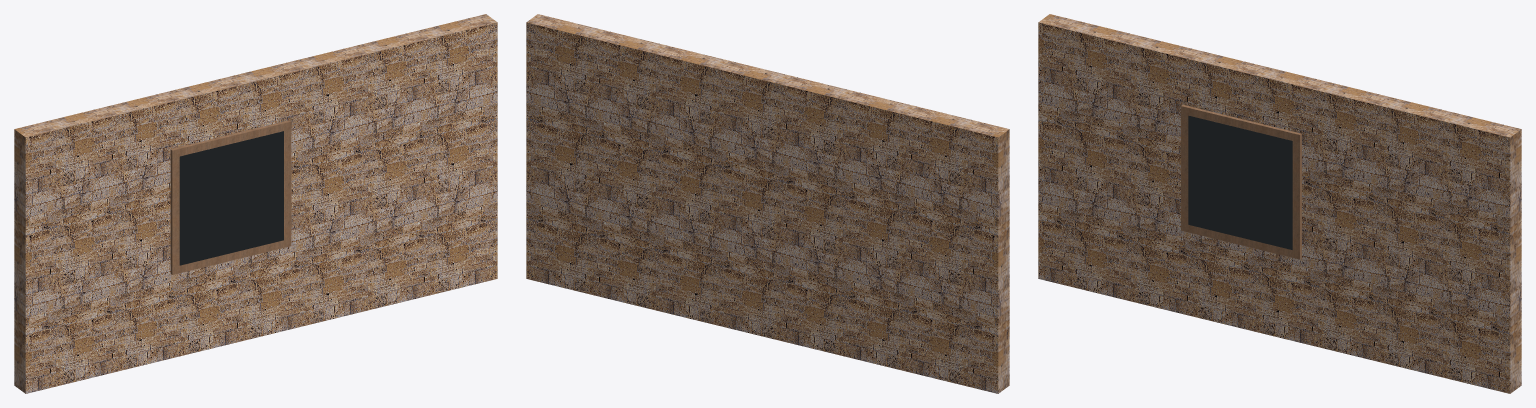
The model's file is wall.glb.
3 views of the same model, side by side, from view 1: azimuth 30°, elevation 25°; view 2: azimuth 150°, elevation 25°; view 3: azimuth 330°, elevation 25° (orthographic).
Visible parts, largest first — view 1: wall_dust, CONTENT, FRAME_T, FRAME_L, FRAME_B, FRAME_R; view 2: wall_dust; view 3: wall_dust, CONTENT, FRAME_T, FRAME_R, FRAME_B, FRAME_L.
Part boxes in pixels (x1,y1,x2,y2): wall_dust: (14,14,497,393); CONTENT: (179,131,283,265); FRAME_T: (170,120,291,157); FRAME_L: (170,156,179,267); FRAME_B: (170,238,291,274); FRAME_R: (284,129,291,239); wall_dust: (526,14,1009,393); wall_dust: (1038,14,1521,393); CONTENT: (1188,115,1292,249); FRAME_T: (1181,104,1301,142); FRAME_R: (1292,141,1301,251); FRAME_B: (1181,223,1301,259); FRAME_L: (1181,113,1188,224).
Bounding box in the file's own units: 5.2 × 2.7 × 0.257.
Materials: 3 (2 with a texture image).
